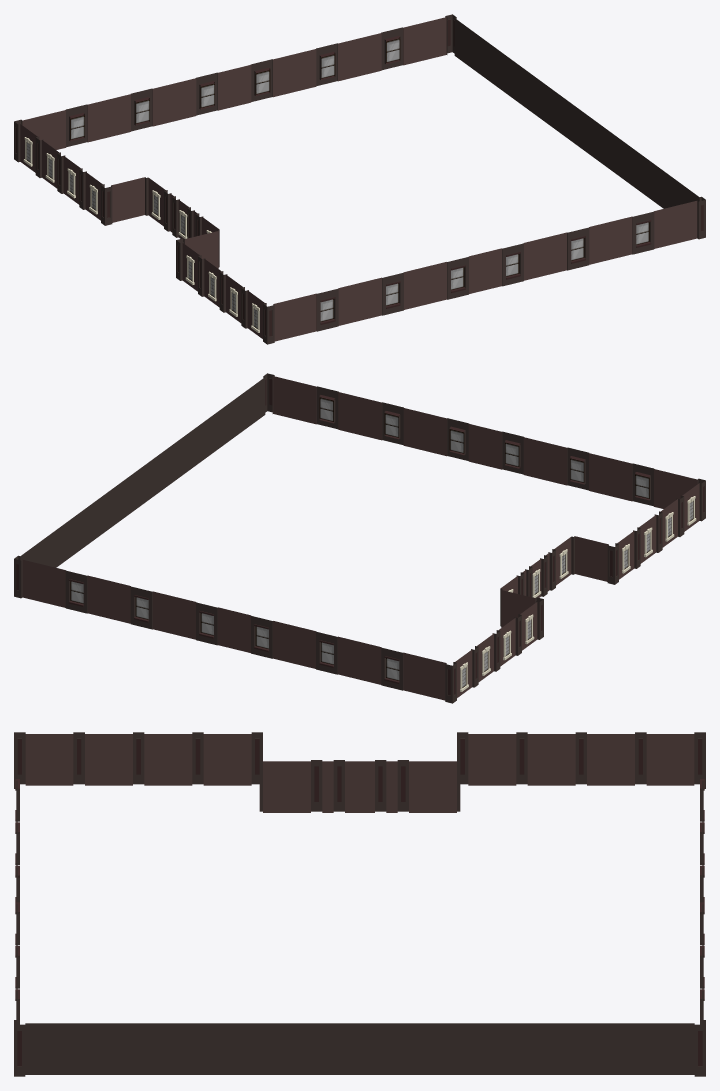
Rendered from BuildingBig3_3.fbx.
3 renders of one model, top to bottom at view 1: azimuth 30°, elevation 25°; view 2: azimuth 150°, elevation 25°; view 3: azimuth 270°, elevation 25°, orthographic. The views are drawn at different scales.
Parts seen in each view (by area): view 1: BuildingBig3_3; view 2: BuildingBig3_3; view 3: BuildingBig3_3.
Part boxes in pixels (x1,y1,x2,y2): BuildingBig3_3: (14,14,705,344); BuildingBig3_3: (14,373,705,703); BuildingBig3_3: (14,732,705,1076).
Bounding box in the file's own units: 6060 × 500 × 6062.
